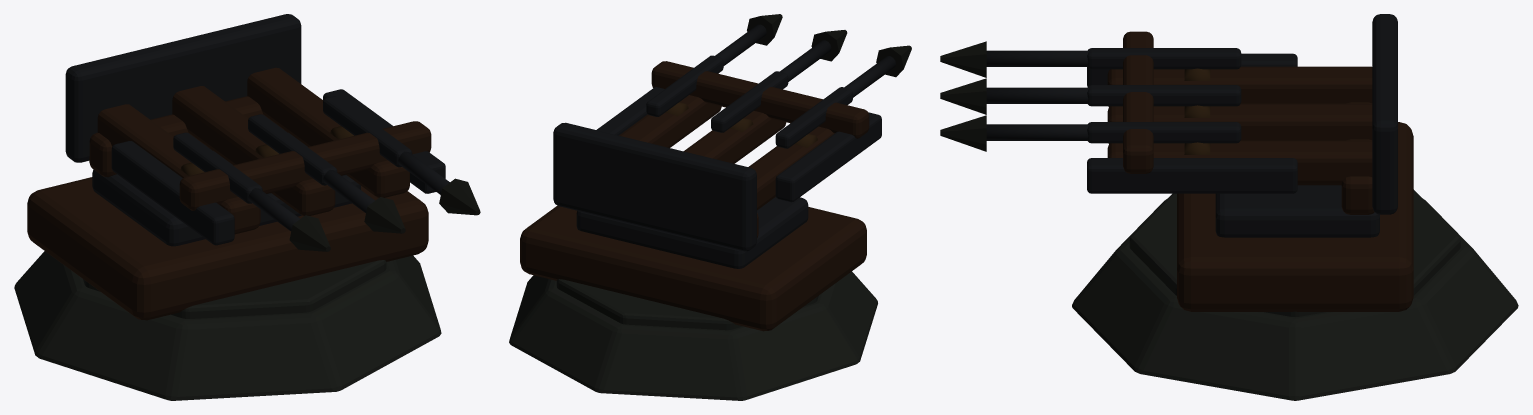
The model's file is TowerMulti2.obj.
The picture shows the model from 3 angles, left to right: view 1: azimuth 30°, elevation 25°; view 2: azimuth 150°, elevation 25°; view 3: azimuth 270°, elevation 25°; orthographic projection. The views are drawn at different scales.
Parts seen in each view (by area): view 1: rough_stone_plinth_lower_course, oak_firing_deck, iron_volley_shield, volley_bow_stock.001, volley_bow_stock.002, rough_stone_plinth_upper_course, extra_bow_brace, volley_bow_stock, iron_turntable, volley_bow_limb, volley_bow_limb.002, volley_bow_limb.001 (+11 smaller); view 2: rough_stone_plinth_lower_course, oak_firing_deck, iron_volley_shield, iron_turntable, rough_stone_plinth_upper_course, extra_bow_brace, volley_bow_stock.002, volley_bow_stock.001, volley_bow_stock, volley_bow_limb, volley_bow_limb.002, volley_iron_guide.002 (+10 smaller); view 3: rough_stone_plinth_lower_course, oak_firing_deck, extra_bow_brace.001, iron_turntable, volley_bow_stock, volley_bow_stock.001, rough_stone_plinth_upper_course, volley_bow_stock.002, iron_volley_shield, volley_iron_guide, volley_iron_guide.001, volley_iron_guide.002 (+11 smaller).
Part boxes in pixels (x1,y1,x2,y2): rough_stone_plinth_lower_course: (14,251,441,400); oak_firing_deck: (27,177,428,320); iron_volley_shield: (65,14,301,162); volley_bow_stock.001: (172,86,335,215); volley_bow_stock.002: (247,67,409,197); rough_stone_plinth_upper_course: (83,260,386,318); extra_bow_brace: (111,141,234,245); volley_bow_stock: (97,104,260,234); iron_turntable: (92,132,360,246); volley_bow_limb: (179,158,277,210); volley_bow_limb.002: (335,121,431,174); volley_bow_limb.001: (261,140,352,192); rough_stone_plinth_lower_course: (509,271,877,400); oak_firing_deck: (520,205,866,331); iron_volley_shield: (553,122,756,251); iron_turntable: (576,197,808,268); rough_stone_plinth_upper_course: (556,279,818,330); extra_bow_brace: (775,112,881,202); volley_bow_stock.002: (619,95,721,147); volley_bow_stock.001: (683,111,786,163); volley_bow_stock: (748,126,834,210); volley_bow_limb: (784,93,869,138); volley_bow_limb.002: (651,61,732,107); volley_iron_guide.002: (646,55,723,116); rough_stone_plinth_lower_course: (1072,199,1518,400); oak_firing_deck: (1177,122,1413,311); extra_bow_brace.001: (1087,158,1297,193); iron_turntable: (1215,185,1379,237); volley_bow_stock: (1107,66,1372,106); volley_bow_stock.001: (1107,103,1372,143); rough_stone_plinth_upper_course: (1129,189,1460,316); volley_bow_stock.002: (1107,140,1372,185); iron_volley_shield: (1372,14,1397,214); volley_iron_guide: (1087,48,1241,69); volley_iron_guide.001: (1087,85,1241,106); volley_iron_guide.002: (1087,122,1241,143).
Bounding box in the file's own units: 1.74 × 1.03 × 2.25.
